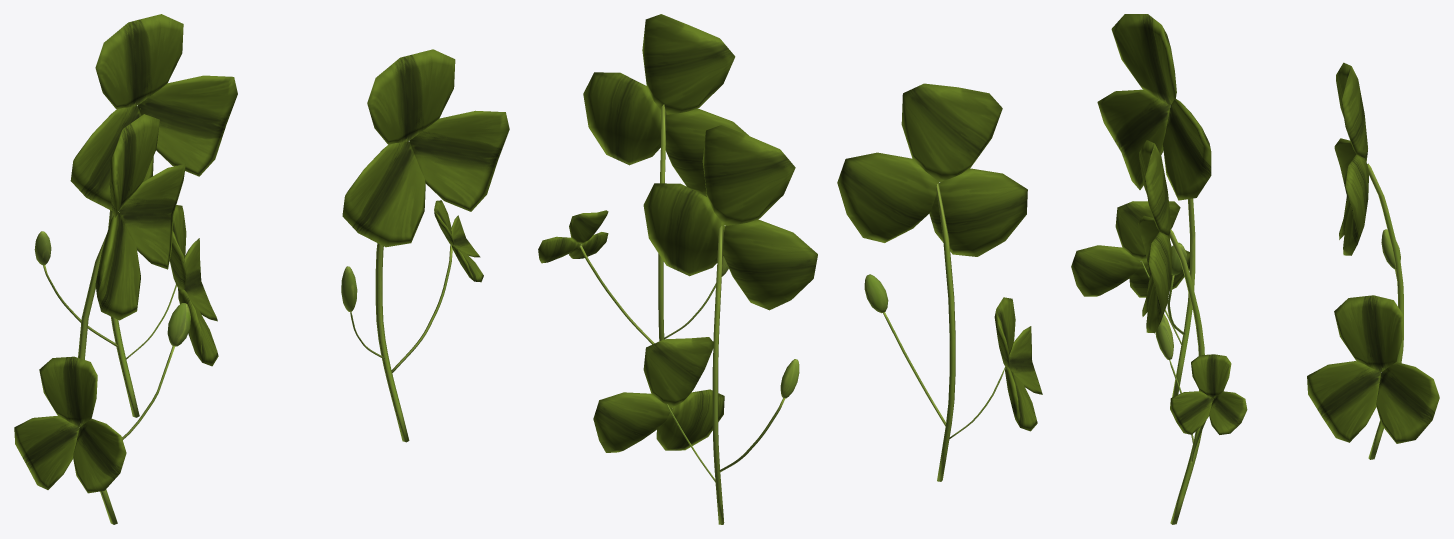
File: Flor_4.fbx
3 renders of one model, left to right at view 1: azimuth 30°, elevation 25°; view 2: azimuth 150°, elevation 25°; view 3: azimuth 270°, elevation 25°, orthographic. The views are drawn at different scales.
Parts seen in each view (by area): view 1: Flor2.005; view 2: Flor2.005; view 3: Flor2.005.
Part boxes in pixels (x1,y1,x2,y2): Flor2.005: [14, 14, 509, 524]; Flor2.005: [538, 14, 1042, 524]; Flor2.005: [1071, 14, 1439, 524].
Size of the model in its own units: 1.03 by 0.8346 by 0.7219.
